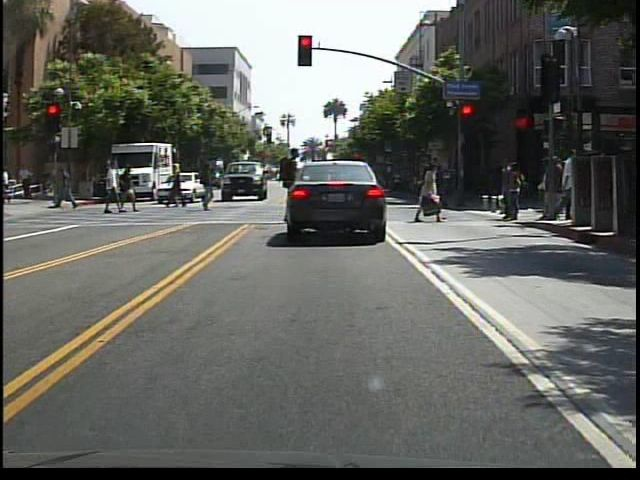person: (412, 158, 449, 228), (277, 144, 304, 198), (103, 160, 127, 218), (196, 162, 222, 215), (54, 163, 80, 214), (556, 149, 573, 223), (168, 163, 188, 212), (123, 166, 139, 214)
